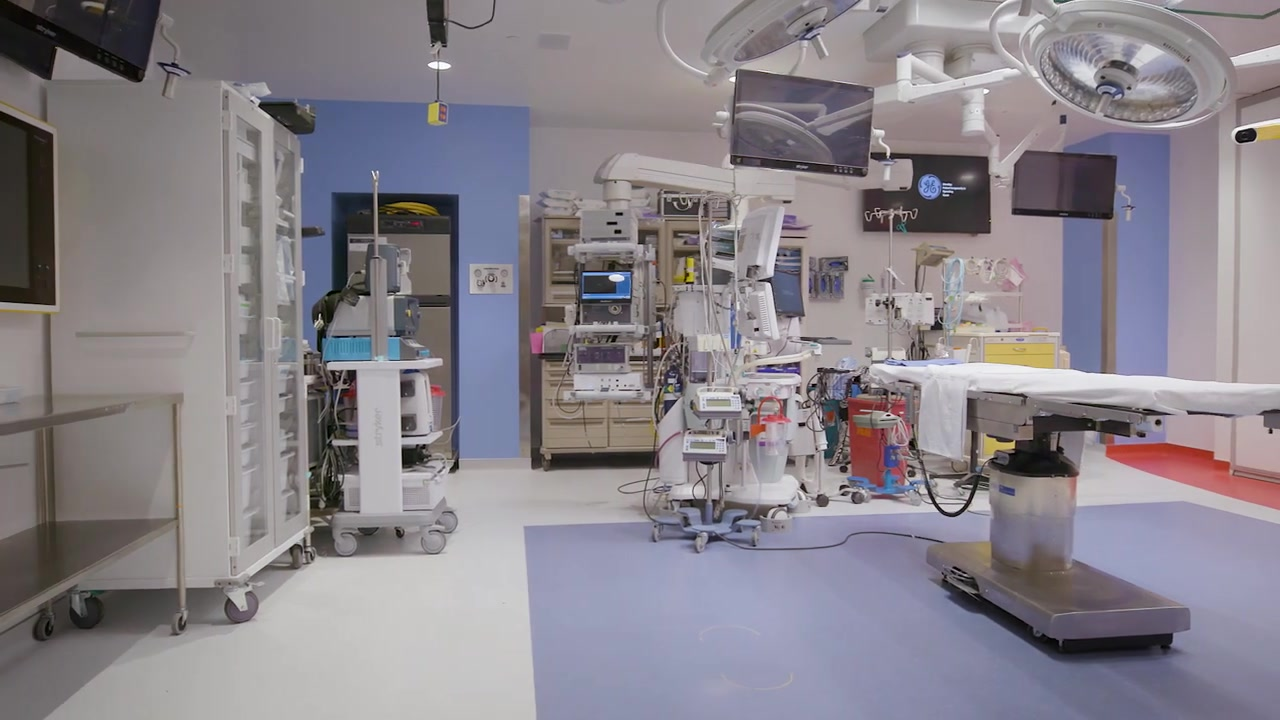bedside_monitor: (729, 68, 875, 178), (1, 1, 162, 84), (1, 100, 62, 315), (862, 152, 991, 234), (1011, 150, 1118, 221), (580, 270, 633, 304)
computer: (768, 270, 805, 318)
countertop: (790, 338, 853, 346)
electrosurgical_unit: (321, 336, 432, 362)
handle: (73, 327, 197, 340), (262, 316, 283, 353), (1011, 346, 1027, 353)
iv_pole: (864, 206, 918, 360), (679, 190, 720, 392), (368, 168, 382, 361)
medical_drawer: (45, 78, 308, 630), (538, 352, 671, 472), (540, 216, 665, 309), (665, 218, 729, 305), (950, 331, 1061, 369), (763, 230, 810, 319)
operating_bed: (869, 359, 1280, 653)
surgical_light: (1018, 1, 1238, 130), (699, 1, 870, 64)
utility_cart: (1, 392, 190, 642)
ventilator: (725, 208, 802, 505)
waste_bin: (845, 395, 911, 499)
